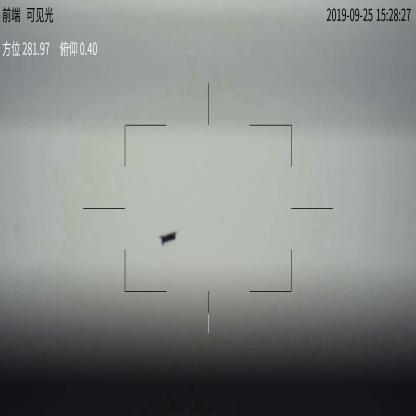uav: (159, 231, 177, 243)
